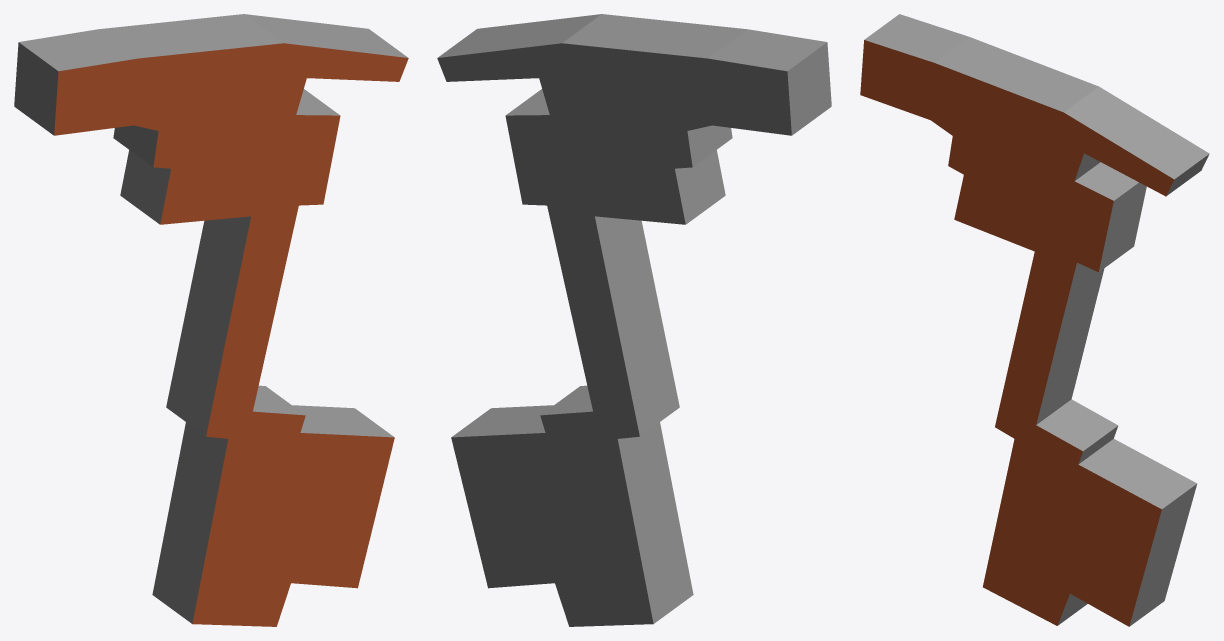
File: construction_1960_assumed_A_Casa_h6m.obj
3 renders of one model, left to right at view 1: azimuth 30°, elevation 25°; view 2: azimuth 150°, elevation 25°; view 3: azimuth 330°, elevation 25°, orthographic. The views are drawn at different scales.
Visible parts, largest first — view 1: construction_1960_assumed_A_Casa; view 2: construction_1960_assumed_A_Casa; view 3: construction_1960_assumed_A_Casa.
Boxes of the visible parts, box(x1,y1,x2,y2) form: construction_1960_assumed_A_Casa: box(14, 14, 408, 626); construction_1960_assumed_A_Casa: box(437, 14, 831, 626); construction_1960_assumed_A_Casa: box(860, 14, 1209, 626).
Bounding box in the file's own units: 30.74 × 50.42 × 6.
